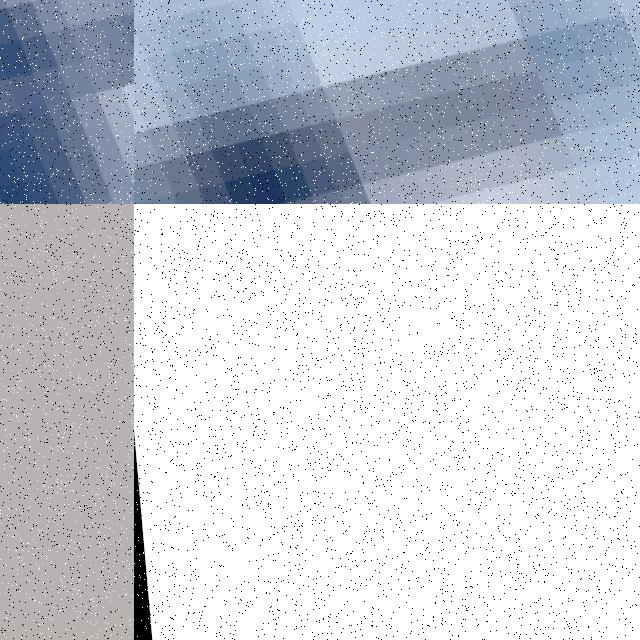drone: (134, 0, 640, 204), (0, 0, 134, 204)
